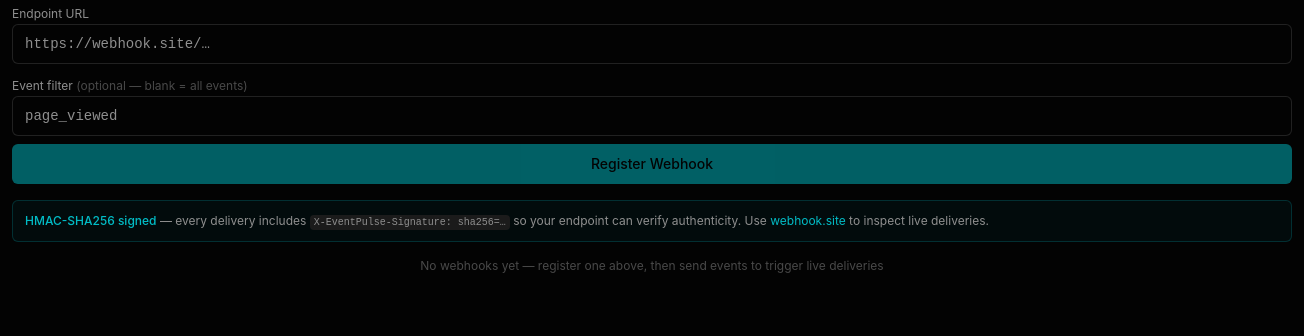
Scenario: WebhookPanel › adds webhook to list on successful create and clears URL field
Type "https://example.com/hook" into the field labelled "Endpoint URL" at x=652, y=44, box [12,24,1292,64]
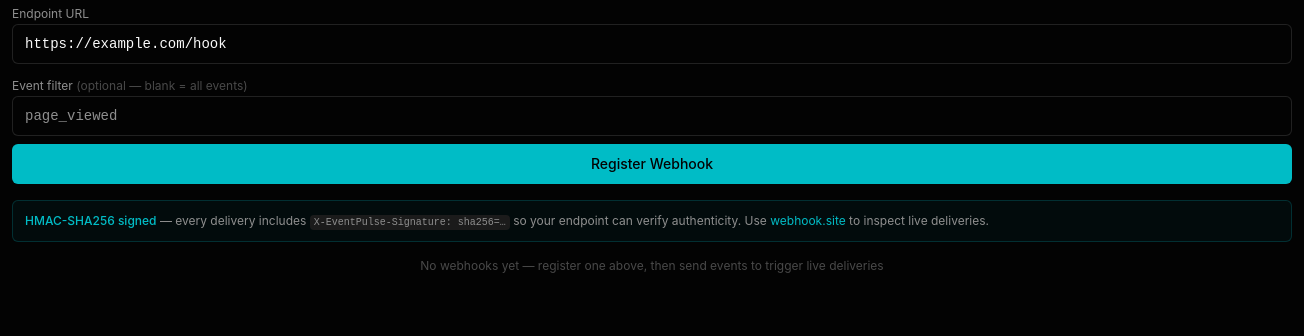
Click the button "Register Webhook" at x=652, y=164, box [12,144,1292,184]
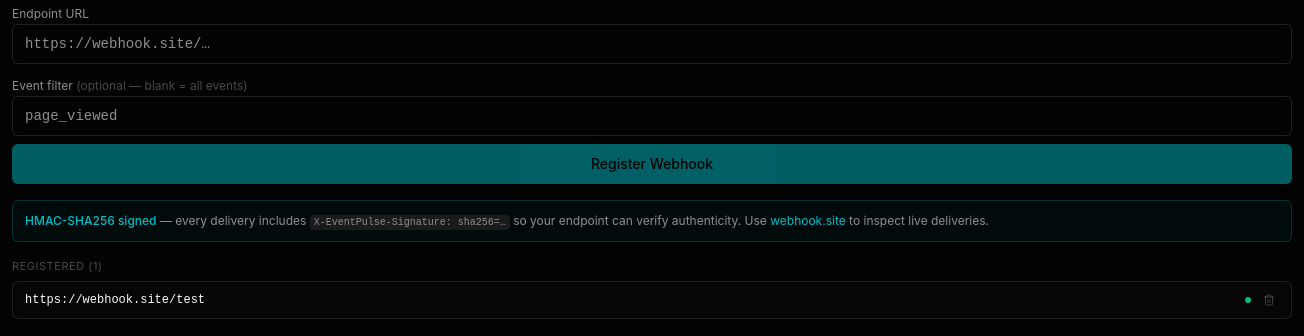
Expected: the text "https://webhook.site/test" is shown, [25,293,205,307]
Expected: the field labelled "Endpoint URL" is empty, [12,24,1292,64]
